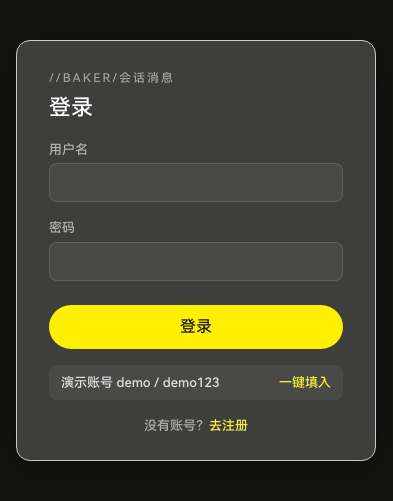
Test: LoginPage › 空字段提交时在输入框下方提示
Click the button "登录": (196, 326) [49,304,343,348]
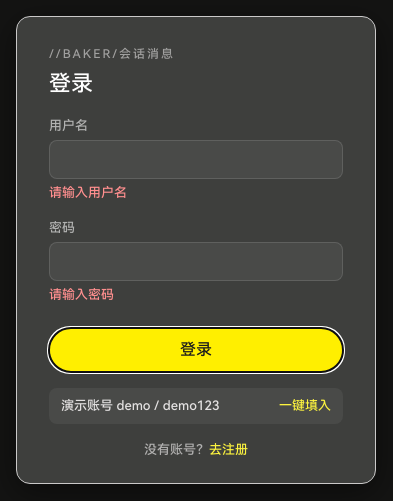
Result: the text "请输入用户名" is shown at [49,184,127,200]
Result: the text "请输入密码" is shown at [49,286,114,302]
